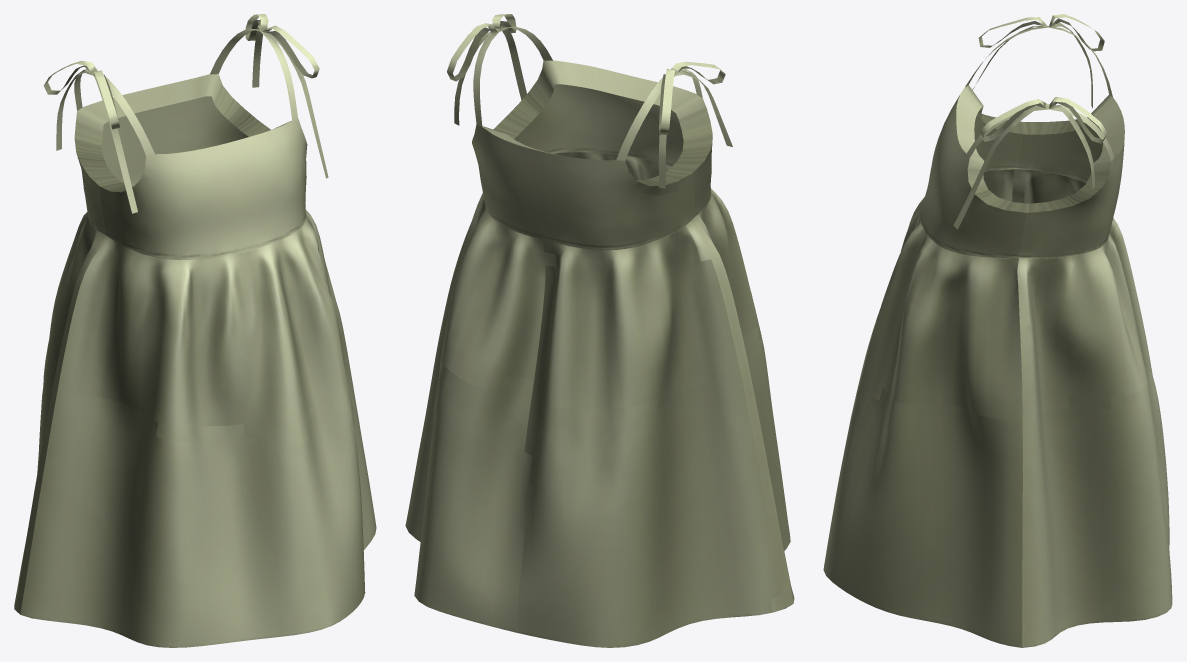
File: dress6.glb
3 views of the same model, side by side, from view 1: azimuth 30°, elevation 25°; view 2: azimuth 150°, elevation 25°; view 3: azimuth 270°, elevation 25° (orthographic). The views are drawn at different scales.
Parts seen in each view (by area): view 1: s4studio_mesh_1; view 2: s4studio_mesh_1; view 3: s4studio_mesh_1.
Boxes of the visible parts, x1,y1,x2,y2 form: s4studio_mesh_1: [14, 14, 376, 647]; s4studio_mesh_1: [405, 14, 794, 647]; s4studio_mesh_1: [823, 14, 1172, 647].
Bounding box in the file's own units: 0.3234 × 0.4466 × 0.2745.
Materials: 1 (1 with a texture image).
